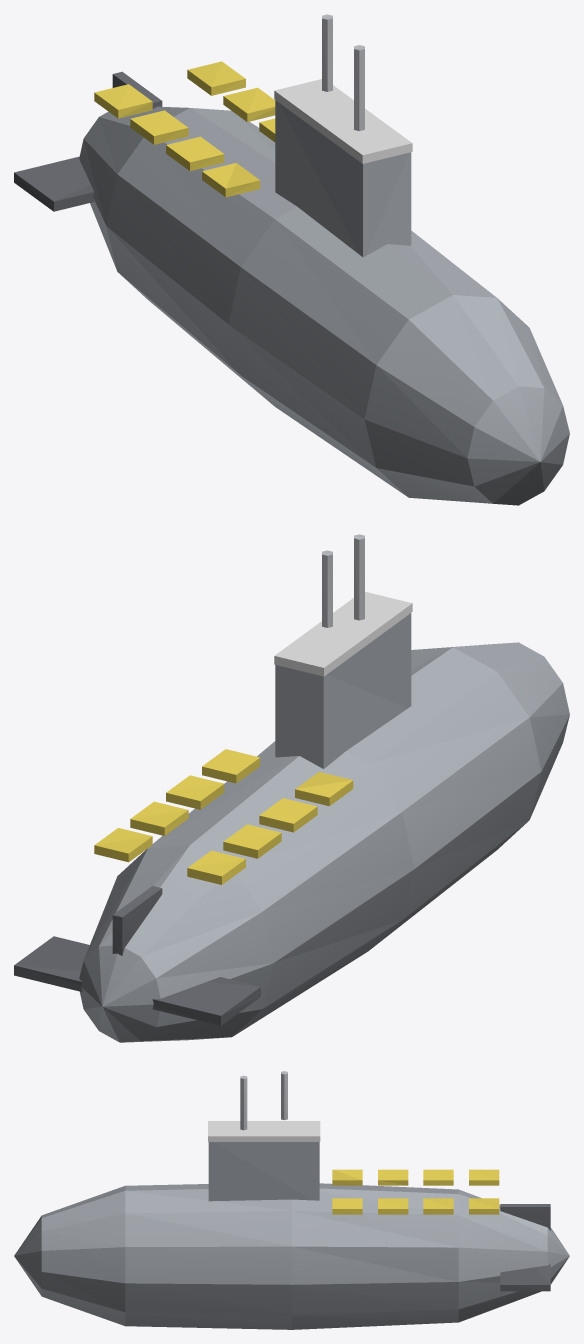
Rendered from Nuclear Submarine.glb.
3 renders of one model, top to bottom at view 1: azimuth 30°, elevation 25°; view 2: azimuth 150°, elevation 25°; view 3: azimuth 270°, elevation 25°, orthographic. The views are drawn at different scales.
Parts seen in each view (by area): view 1: Body; view 2: Body; view 3: Body.
Part boxes in pixels (x1,y1,x2,y2): Body: [14, 14, 569, 505]; Body: [14, 534, 569, 1042]; Body: [14, 1071, 569, 1329].
Bounding box in the file's own units: 0.3 × 0.55 × 1.1.
